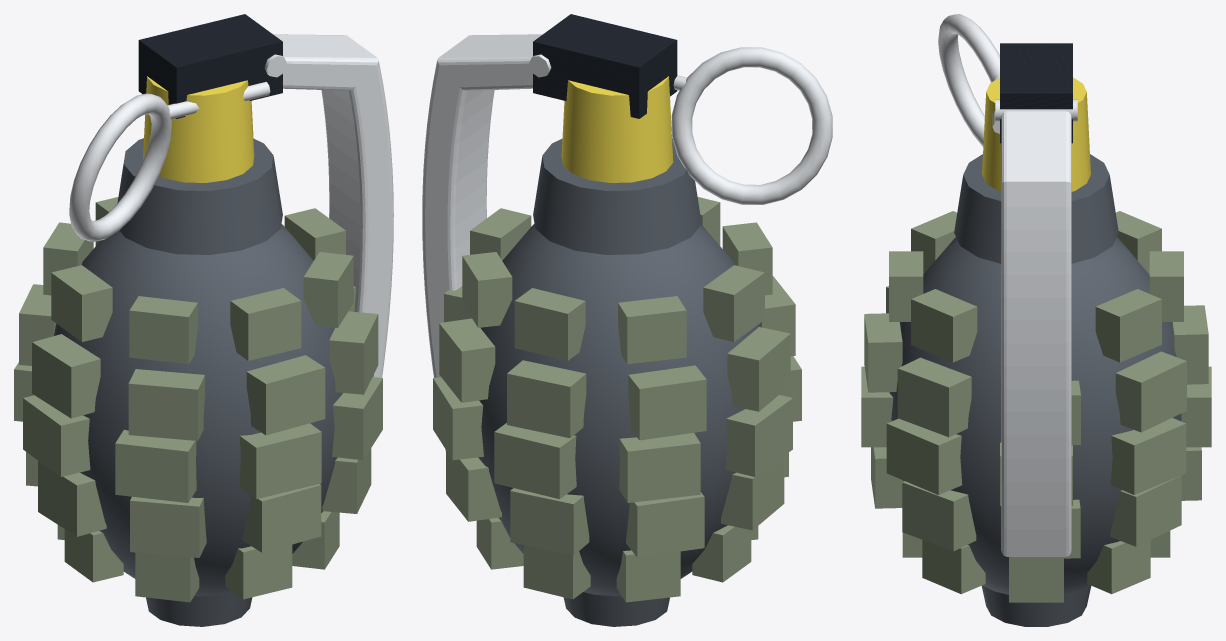
File: grenade_frag.glb
3 renders of one model, left to right at view 1: azimuth 30°, elevation 25°; view 2: azimuth 150°, elevation 25°; view 3: azimuth 270°, elevation 25°, orthographic. The views are drawn at different scales.
Visible parts, largest first — view 1: Grenade_Hull_chassis, Grenade_Hull_metalDark, Grenade_Spoon_metalChrome, Grenade_Hull_metalPrimary, Grenade_Hull_brass, Grenade_PinRing_metalChrome; view 2: Grenade_Hull_chassis, Grenade_Hull_metalDark, Grenade_Spoon_metalChrome, Grenade_Hull_brass, Grenade_PinRing_metalChrome, Grenade_Hull_metalPrimary; view 3: Grenade_Hull_chassis, Grenade_Hull_metalDark, Grenade_Spoon_metalChrome, Grenade_Hull_metalPrimary, Grenade_PinRing_metalChrome, Grenade_Hull_brass.
Part boxes in pixels (left/top/right/bottom): Grenade_Hull_chassis: left=14, top=197, right=382, bottom=602; Grenade_Hull_metalDark: left=54, top=138, right=342, bottom=626; Grenade_Spoon_metalChrome: left=273, top=34, right=393, bottom=377; Grenade_Hull_metalPrimary: left=138, top=14, right=282, bottom=118; Grenade_Hull_brass: left=143, top=76, right=254, bottom=182; Grenade_PinRing_metalChrome: left=69, top=81, right=270, bottom=241; Grenade_Hull_chassis: left=433, top=197, right=801, bottom=602; Grenade_Hull_metalDark: left=478, top=138, right=761, bottom=626; Grenade_Spoon_metalChrome: left=422, top=34, right=542, bottom=451; Grenade_Hull_brass: left=561, top=76, right=673, bottom=182; Grenade_PinRing_metalChrome: left=671, top=47, right=832, bottom=204; Grenade_Hull_metalPrimary: left=533, top=14, right=677, bottom=118; Grenade_Hull_chassis: left=861, top=211, right=1211, bottom=602; Grenade_Hull_metalDark: left=889, top=154, right=1181, bottom=626; Grenade_Spoon_metalChrome: left=1001, top=111, right=1071, bottom=556; Grenade_Hull_metalPrimary: left=1000, top=43, right=1072, bottom=143; Grenade_PinRing_metalChrome: left=938, top=14, right=999, bottom=146; Grenade_Hull_brass: left=982, top=77, right=1090, bottom=191.
Bounding box in the file's own units: 0.0854 × 0.131 × 0.0765.
Materials: 5 (1 with a texture image).
